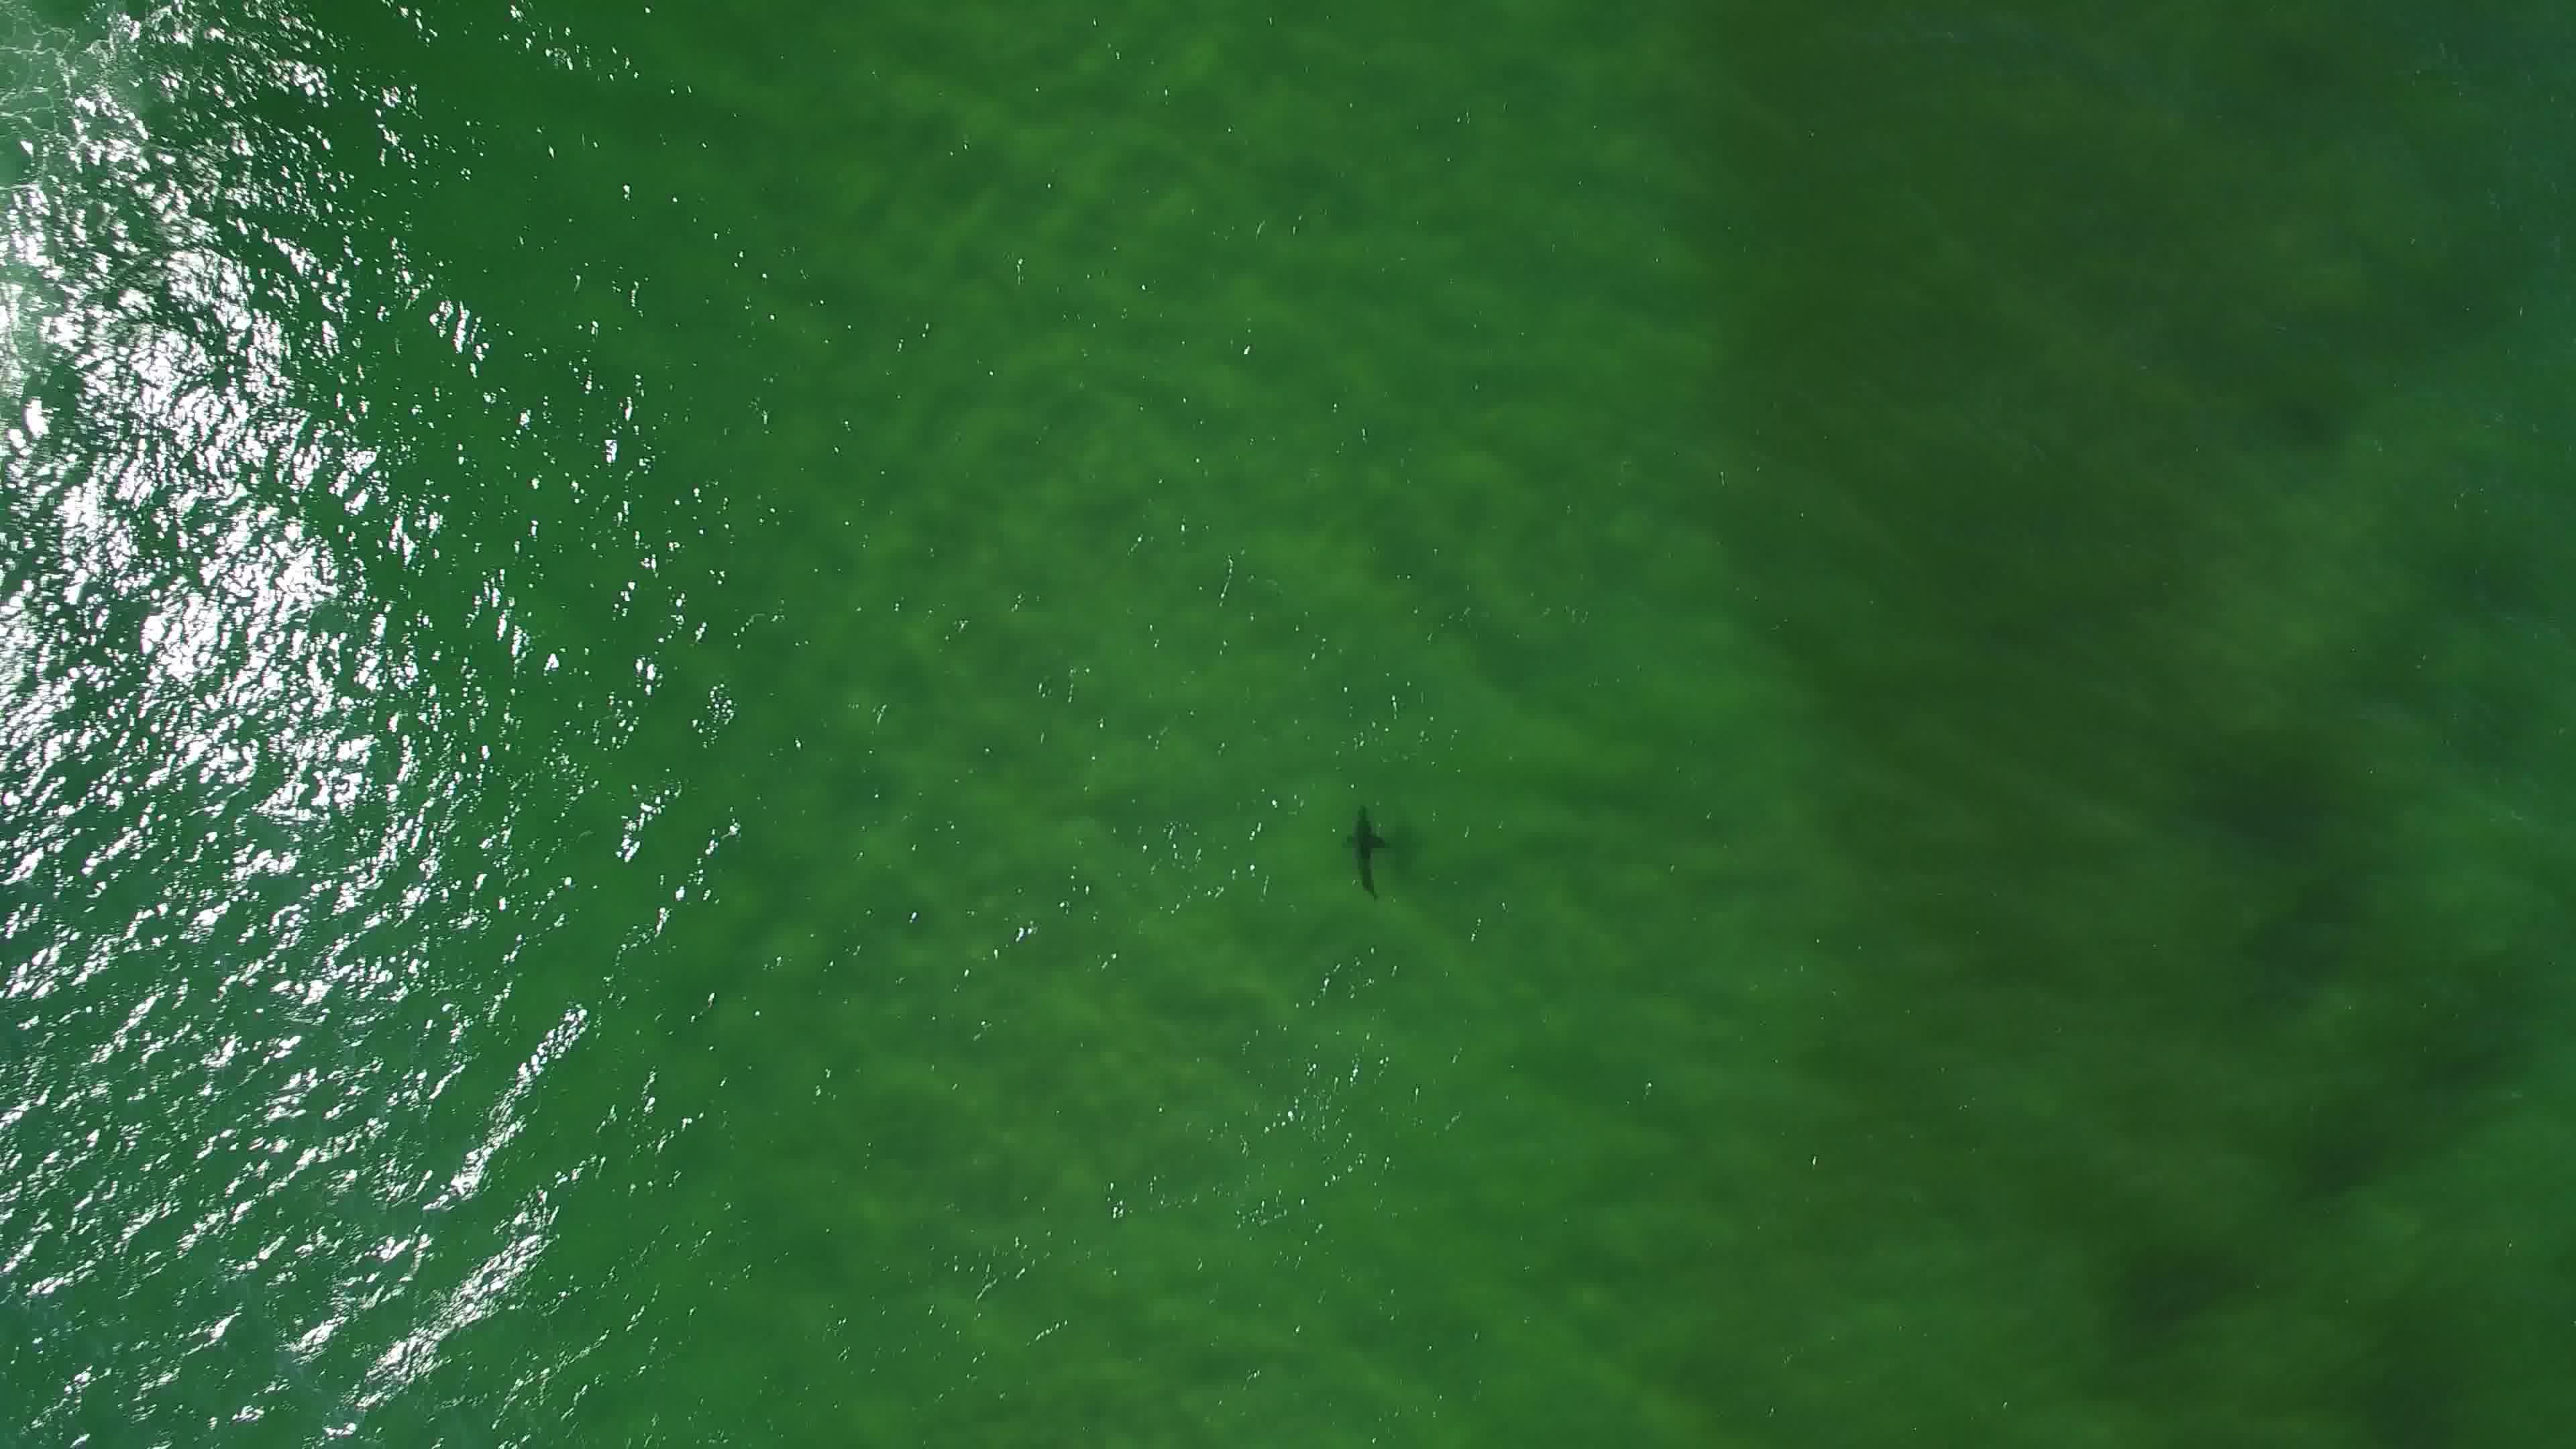shark: (1336, 796, 1394, 908)
